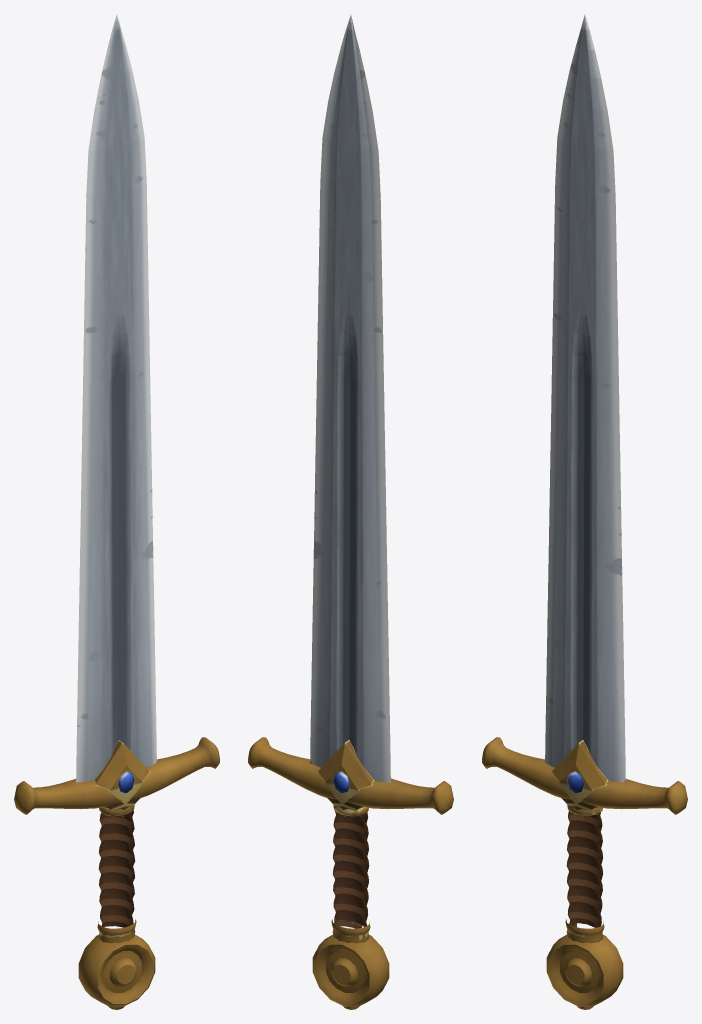
Rendered from warden-sword.hq.glb.
3 renders of one model, left to right at view 1: azimuth 30°, elevation 25°; view 2: azimuth 150°, elevation 25°; view 3: azimuth 330°, elevation 25°, orthographic.
Parts seen in each view (by area): view 1: warden-sword; view 2: warden-sword; view 3: warden-sword.
Part boxes in pixels (bbox=[...]): warden-sword: bbox=[14, 15, 219, 1009]; warden-sword: bbox=[248, 15, 453, 1009]; warden-sword: bbox=[482, 15, 687, 1009].
Size of the model in its own units: 0.212 by 1.01 by 0.0437.
1 material, 1 textured.
